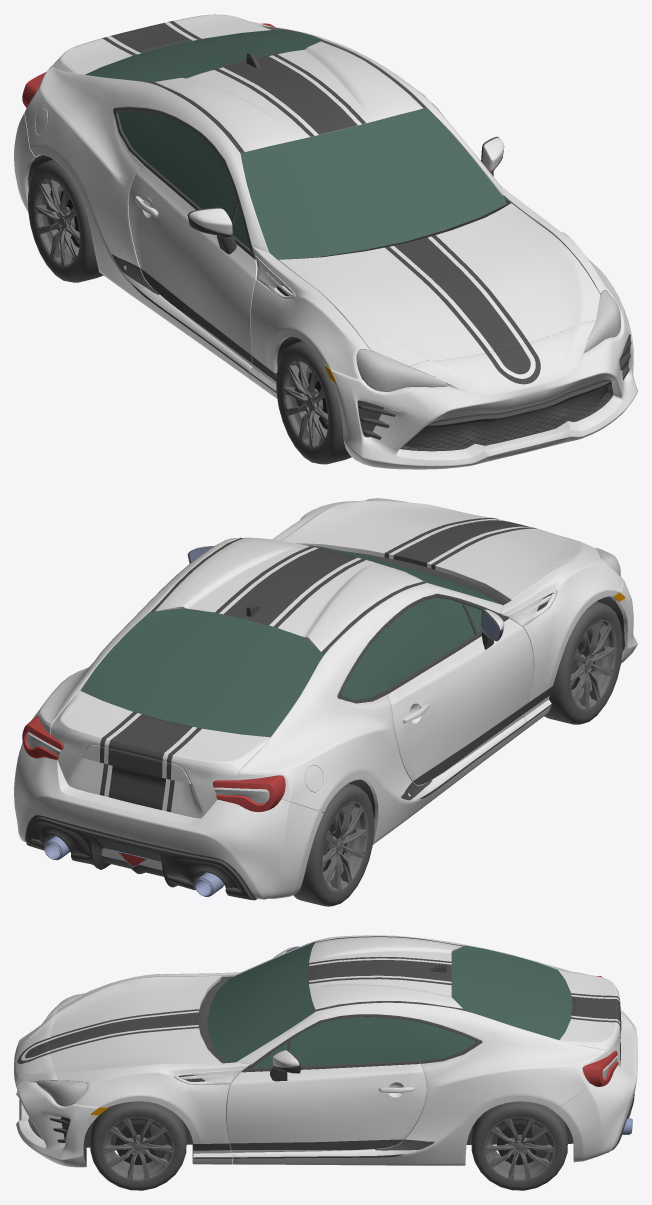
Rendered from tuner.glb.
3 renders of one model, top to bottom at view 1: azimuth 30°, elevation 25°; view 2: azimuth 150°, elevation 25°; view 3: azimuth 270°, elevation 25°, orthographic. The views are drawn at different scales.
Parts seen in each view (by area): view 1: t_windshield, t_hood, t_bumper_f, t_side_r, t_door_r, t_windows, t_roof, t_fender_r, t_z_bumper_front, t_tires, t_rims, t_accent_hood (+11 smaller); view 2: t_windows, t_side_r, t_bumper_r, t_door_r, t_hood, t_roof, t_trunk, t_fender_r, t_tires, t_z_bumper_rear, t_rims, t_accent_trunk (+11 smaller); view 3: t_side_l, t_windows, t_door_l, t_hood, t_fender_l, t_windshield, t_tires, t_roof, t_bumper_f, t_rims, t_bumper_r, t_accent_roof (+12 smaller).
Boxes of the visible parts, x1=… form: t_windshield: x1=240, y1=108, x2=506, y2=260; t_hood: x1=278, y1=203, x2=600, y2=365; t_bumper_f: x1=331, y1=302, x2=637, y2=469; t_side_r: x1=24, y1=66, x2=268, y2=381; t_door_r: x1=128, y1=165, x2=257, y2=366; t_windows: x1=85, y1=30, x2=323, y2=248; t_roof: x1=155, y1=41, x2=423, y2=151; t_fender_r: x1=249, y1=246, x2=369, y2=398; t_z_bumper_front: x1=356, y1=290, x2=631, y2=451; t_tires: x1=28, y1=159, x2=351, y2=464; t_rims: x1=34, y1=177, x2=328, y2=449; t_accent_hood: x1=385, y1=235, x2=528, y2=352; t_windows: x1=80, y1=597, x2=482, y2=737; t_side_r: x1=237, y1=583, x2=526, y2=844; t_bumper_r: x1=14, y1=742, x2=323, y2=899; t_door_r: x1=388, y1=609, x2=533, y2=785; t_hood: x1=282, y1=500, x2=600, y2=601; t_roof: x1=155, y1=537, x2=423, y2=651; t_trunk: x1=50, y1=691, x2=270, y2=818; t_fender_r: x1=501, y1=557, x2=622, y2=731; t_tires: x1=293, y1=601, x2=622, y2=906; t_z_bumper_rear: x1=25, y1=744, x2=274, y2=900; t_rims: x1=81, y1=619, x2=616, y2=892; t_accent_trunk: x1=99, y1=712, x2=201, y2=811; t_side_l: x1=232, y1=1002, x2=607, y2=1165; t_windows: x1=252, y1=945, x2=572, y2=1068; t_door_l: x1=226, y1=1050, x2=426, y2=1152; t_hood: x1=50, y1=976, x2=221, y2=1082; t_fender_l: x1=74, y1=1062, x2=249, y2=1164; t_windshield: x1=207, y1=941, x2=315, y2=1062; t_tires: x1=90, y1=1101, x2=567, y2=1190; t_roof: x1=309, y1=937, x2=462, y2=1009; t_bumper_f: x1=14, y1=1010, x2=98, y2=1167; t_rims: x1=102, y1=1116, x2=555, y2=1181; t_bumper_r: x1=553, y1=1009, x2=637, y2=1162; t_accent_roof: x1=308, y1=956, x2=451, y2=985.
Size of the model in its own units: 1.91 by 1.33 by 4.3.
